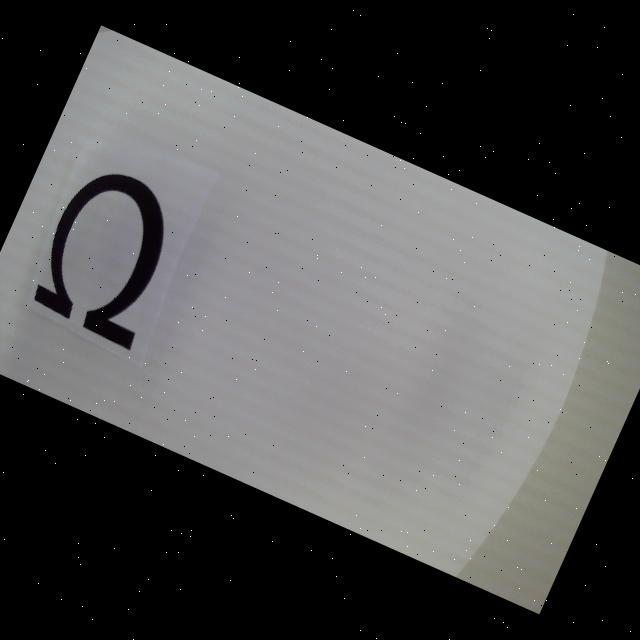OMEGA: (23, 158, 195, 352)
